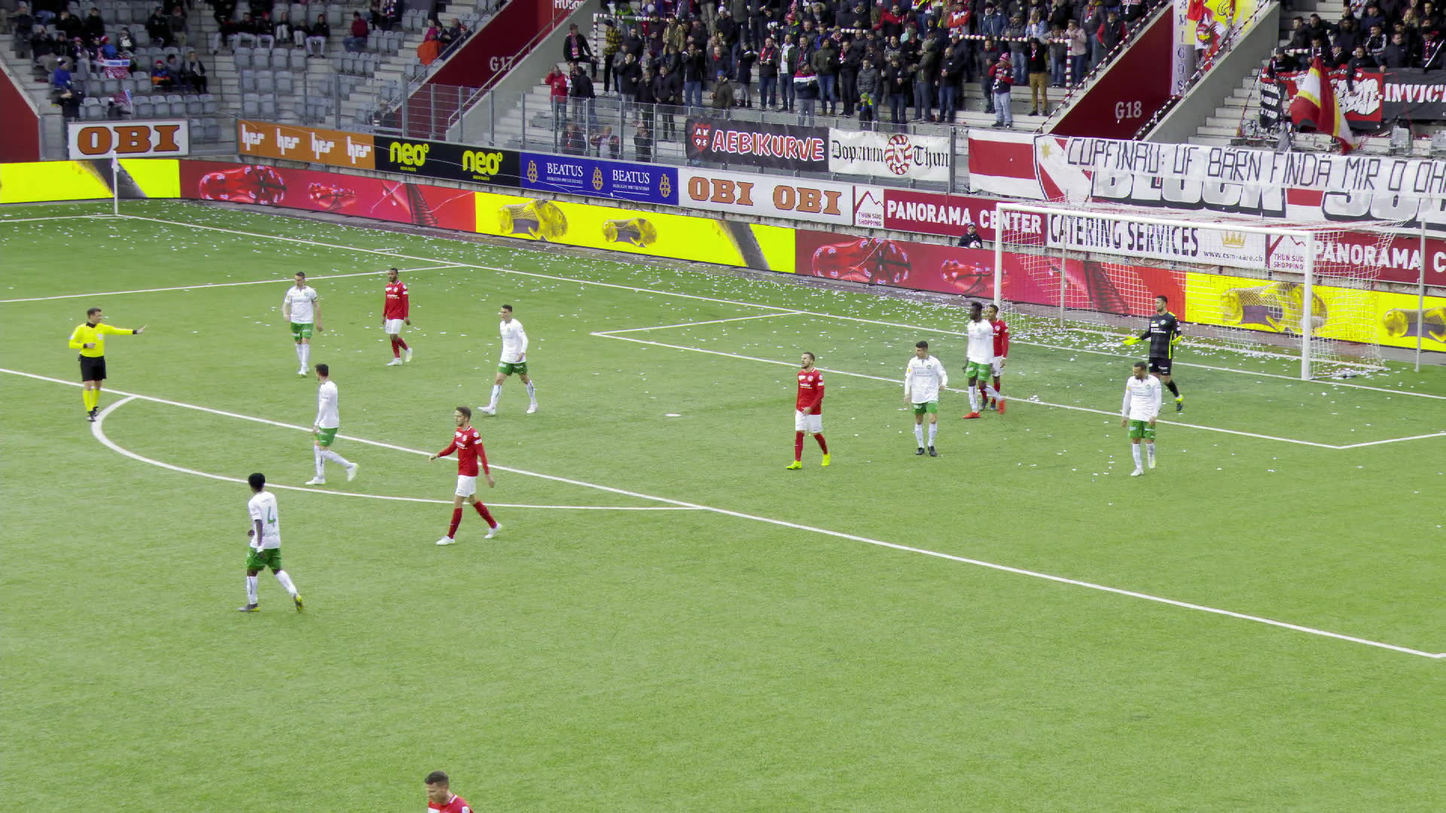player: (427, 403, 505, 547), (233, 469, 302, 616), (1124, 292, 1190, 412), (302, 360, 358, 487), (479, 299, 538, 414), (784, 350, 832, 470), (958, 300, 1004, 420), (901, 340, 947, 455), (1121, 361, 1165, 477), (372, 266, 416, 366), (282, 268, 322, 375), (973, 302, 1011, 412), (422, 771, 470, 812)
referee: (66, 303, 145, 419)
